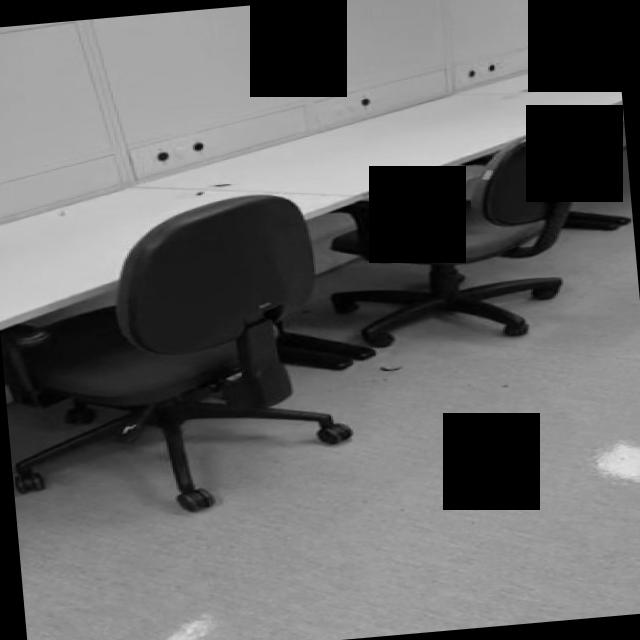cadeira-azul: (0, 185, 356, 527)
